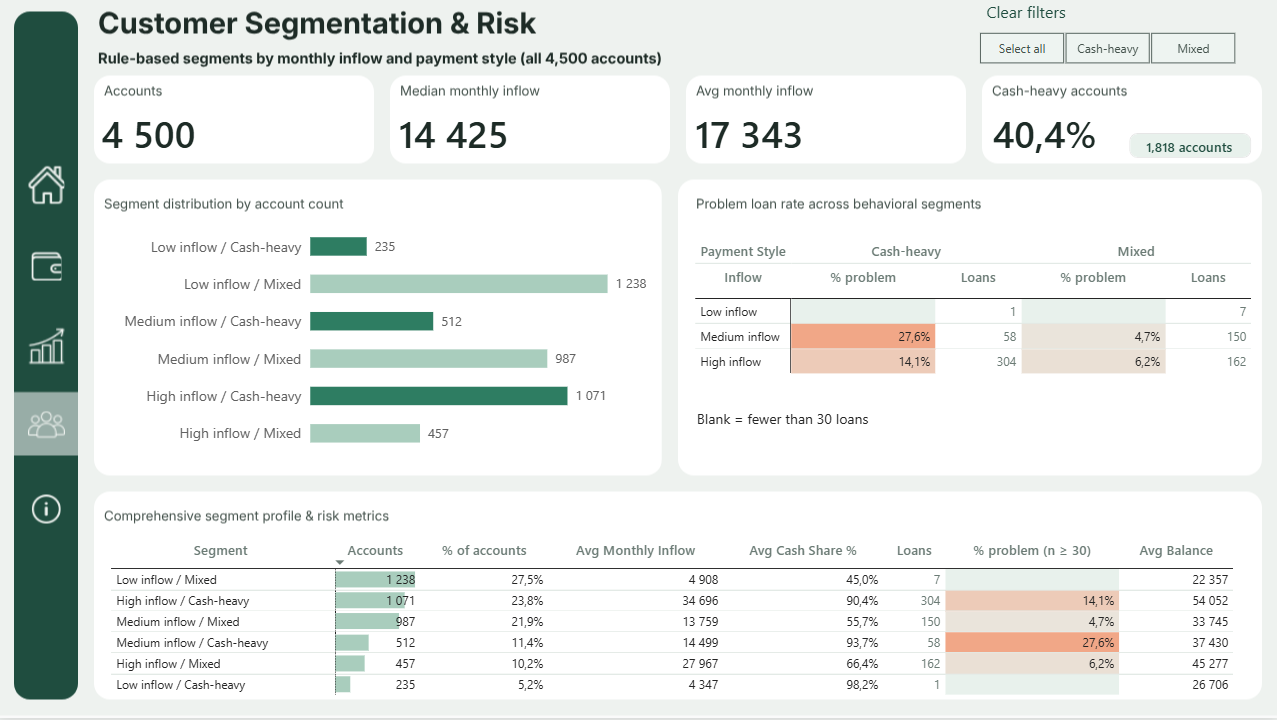

The dashboard page shown, as its layout file describes it:
{"tool":"powerbi","page":{"name":"Customer Segmentation","canvas":[1280,720],"ordinal":3},"visuals":[{"type":"cardVisual","fields":{"Data":["_Measures.Accounts"]},"box":[87.5,110,260,50],"z":0},{"type":"clusteredBarChart","fields":{"Category":["account_segments.Segment Label"],"Y":["_Measures.Accounts"]},"box":[96.7,200,568.3,278.3],"z":1000},{"type":"tableEx","fields":{"Values":["account_segments.segment","_Measures.Accounts","_Measures.Avg Monthly Inflow","_Measures.Avg Cash Share %","_Measures.Loans","_Measures.Problem Loan % (min 30 loans)"]},"box":[10.7,746.4,949.5,333.6],"z":2000},{"type":"pivotTable","fields":{"Columns":["account_segments.payment_style"],"Rows":["account_segments.Inflow Label"],"Values":["_Measures.Problem Loan % (min 30 loans)","_Measures.Loans"]},"box":[681.2,225,588.8,175],"z":3000},{"type":"cardVisual","fields":{"Data":["_MeasuresCard.Median Monthly Inflow"]},"box":[384.6,110,260,50],"z":4000},{"type":"cardVisual","fields":{"Data":["_Measures.Avg Monthly Inflow"]},"box":[681.7,110,260,50],"z":5000},{"type":"cardVisual","fields":{"Data":["_Measures.Cash-heavy Accounts %"]},"box":[978.8,110,260,50],"z":6000},{"type":"tableEx","fields":{"Values":["account_segments.Segment Label","_Measures.Accounts","_Measures.Accounts %","_Measures.Avg Monthly Inflow","_Measures.Avg Cash Share %","_Measures.Loans","_Measures.Problem Loan % (min 30 loans)","_Measures.Avg Balance"]},"box":[96.2,526.2,1158.3,193.3],"z":7000},{"type":"slicer","fields":{"Values":["account_segments.payment_style"]},"box":[961.2,32.5,295,35],"z":8000},{"type":"textbox","box":[698.3,411.7,300,23.3],"z":9000},{"type":"cardVisual","fields":{"Data":["_MeasuresCard.Chip Cash-heavy Accounts"]},"box":[1131.2,135,122.5,25],"z":10000},{"type":"actionButton","box":[21.2,322.5,53.8,55],"z":11000},{"type":"actionButton","box":[22.5,482.5,52.5,57.5],"z":12000},{"type":"actionButton","box":[20,160,53.8,55],"z":13000},{"type":"actionButton","box":[22.5,240,53.8,55],"z":14000},{"type":"actionButton","title":"Clear filters","box":[978.8,2.5,98.8,30],"z":15000}]}

Visuals, with their boxes on the page's 1280x720 design canvas (x1, y1, x2, y2). These are canvas units, not pixel positions in the 1277x720 screenshot, which may show the page scaled, cropped or inside an application window:
cardVisual - _Measures.Accounts: (88,110,348,160)
clusteredBarChart - account_segments.Segment Label x _Measures.Accounts: (97,200,665,478)
tableEx - account_segments.segment x _Measures.Accounts: (11,746,960,1080)
pivotTable - account_segments.payment_style x account_segments.Inflow Label: (681,225,1270,400)
cardVisual - _MeasuresCard.Median Monthly Inflow: (385,110,645,160)
cardVisual - _Measures.Avg Monthly Inflow: (682,110,942,160)
cardVisual - _Measures.Cash-heavy Accounts %: (979,110,1239,160)
tableEx - account_segments.Segment Label x _Measures.Accounts: (96,526,1254,720)
slicer - account_segments.payment_style: (961,32,1256,68)
textbox: (698,412,998,435)
cardVisual - _MeasuresCard.Chip Cash-heavy Accounts: (1131,135,1254,160)
actionButton: (21,322,75,378)
actionButton: (22,482,75,540)
actionButton: (20,160,74,215)
actionButton: (22,240,76,295)
"Clear filters" actionButton: (979,2,1078,32)
